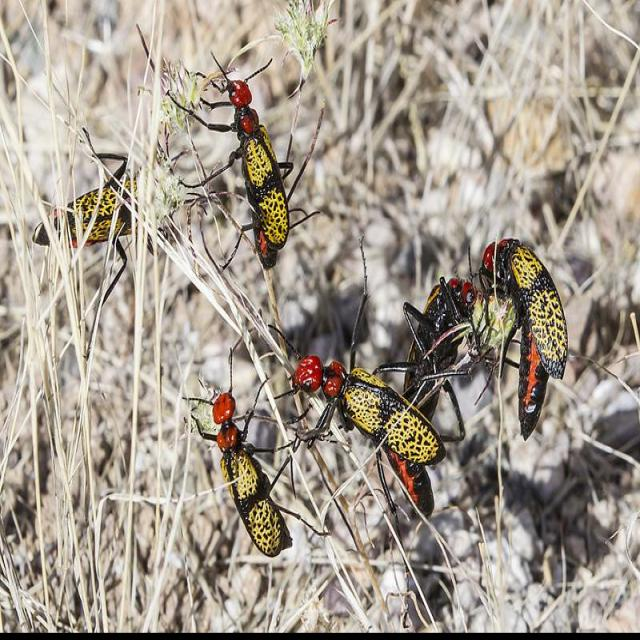BlisterBeetle-Adult-: (288, 342, 452, 514), (190, 52, 301, 268), (193, 335, 299, 557), (485, 237, 566, 431)
